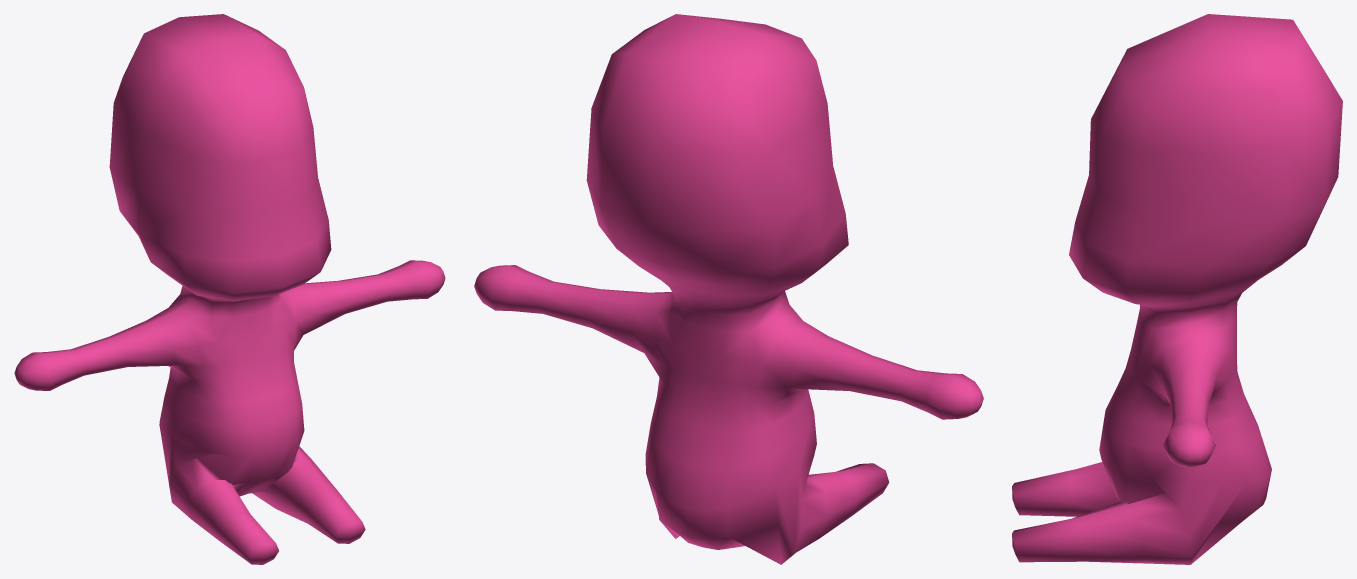
Rendered from MyGuySitting.fbx.
3 renders of one model, left to right at view 1: azimuth 30°, elevation 25°; view 2: azimuth 150°, elevation 25°; view 3: azimuth 270°, elevation 25°, orthographic. The views are drawn at different scales.
Parts seen in each view (by area): view 1: MyGuySitting; view 2: MyGuySitting; view 3: MyGuySitting.
Boxes of the visible parts, <box> form: MyGuySitting: <box>14,14,445,564</box>; MyGuySitting: <box>474,14,983,564</box>; MyGuySitting: <box>1012,14,1342,564</box>.
Size of the model in its own units: 711 by 723 by 425.
